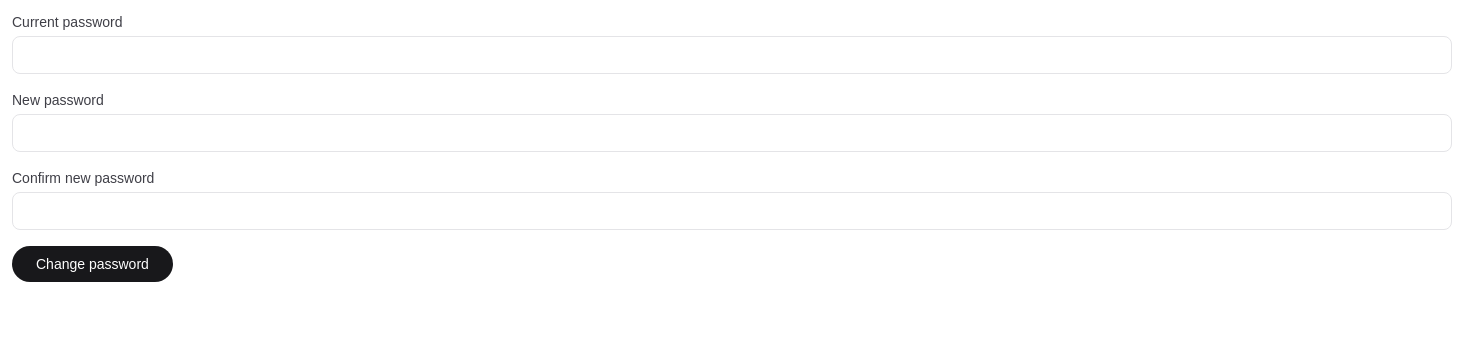
Test case: ChangePasswordForm › shows the success message after a successful change
The width and height of the screenshot is (1464, 351).
Type "old-pw-12345" into the password field named "currentPassword" below "Current password".
click(732, 55); type("old-pw-12345")  # box 12,36 -> 1452,74
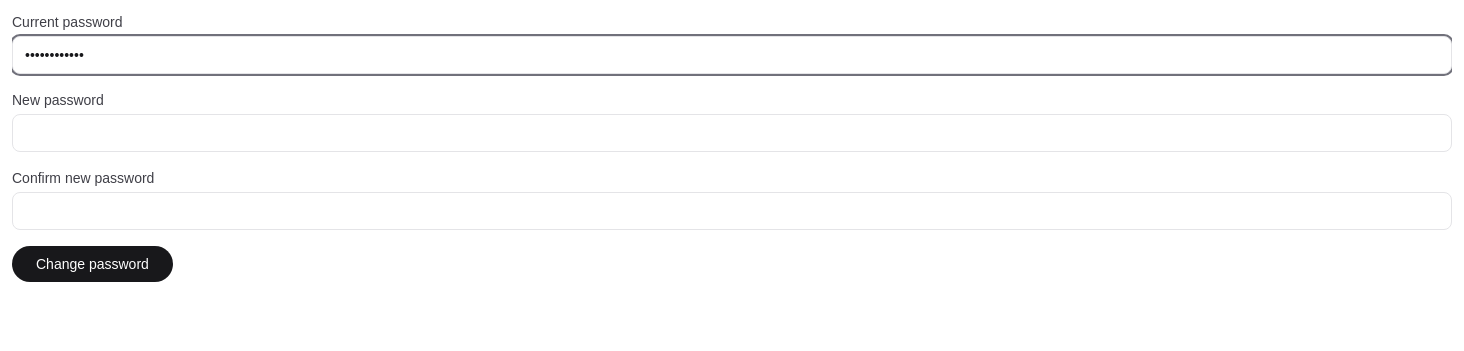
Type "new-pw-12345" into the 2nd password field named "newPassword".
click(732, 133); type("new-pw-12345")  # box 12,114 -> 1452,152
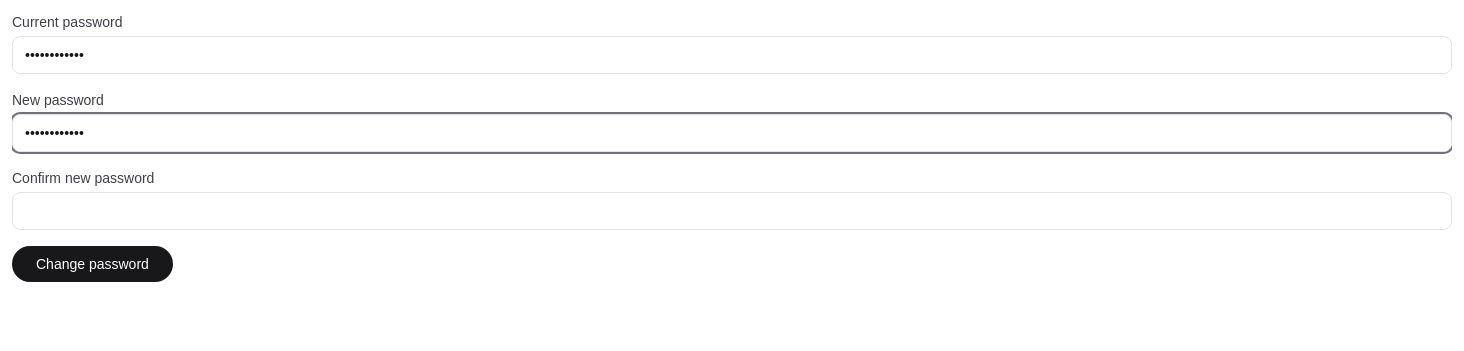
Type "new-pw-12345" into the password field named "confirmNewPassword" below "Confirm new password".
click(732, 211); type("new-pw-12345")  # box 12,192 -> 1452,230
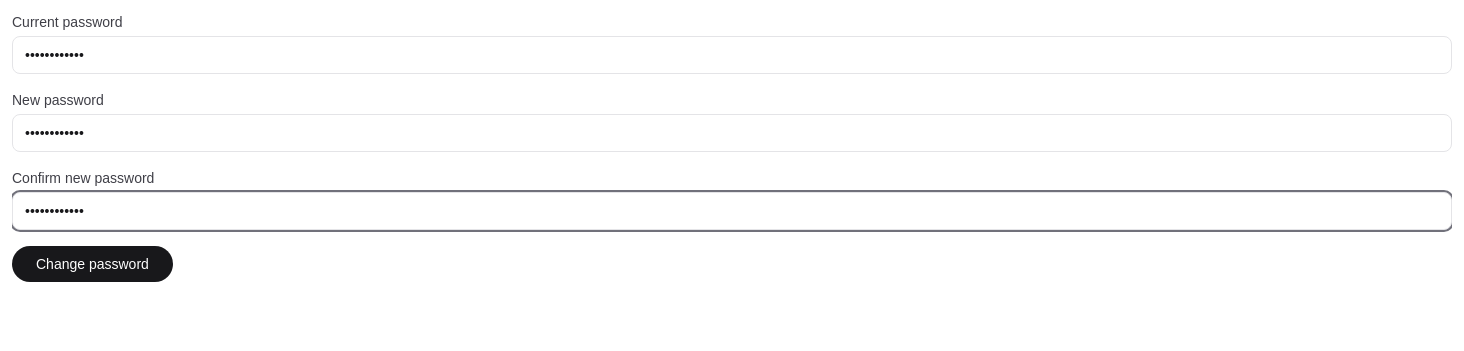
Click the button "Change password".
click(92, 264)  # box 12,246 -> 173,282
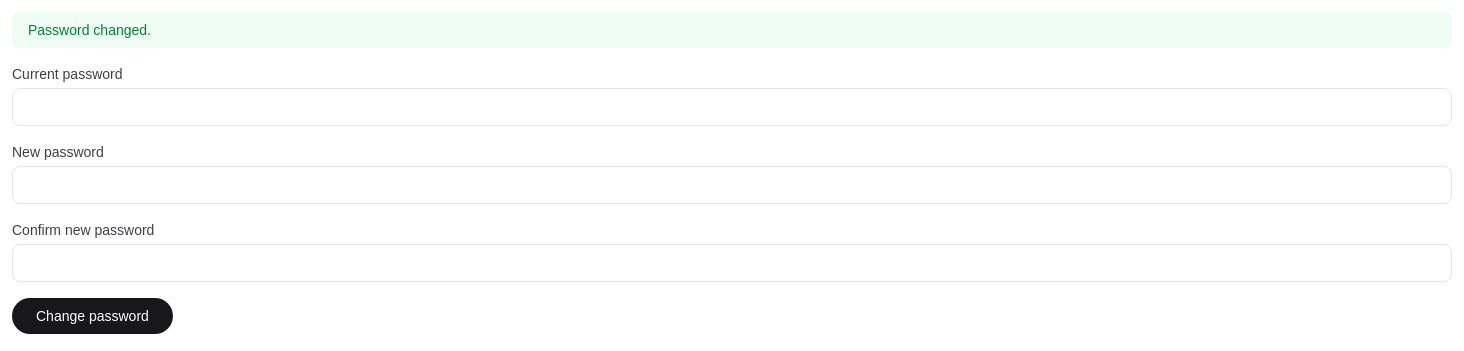
Result: the text "Password changed." is shown at 12,12 -> 1452,48
